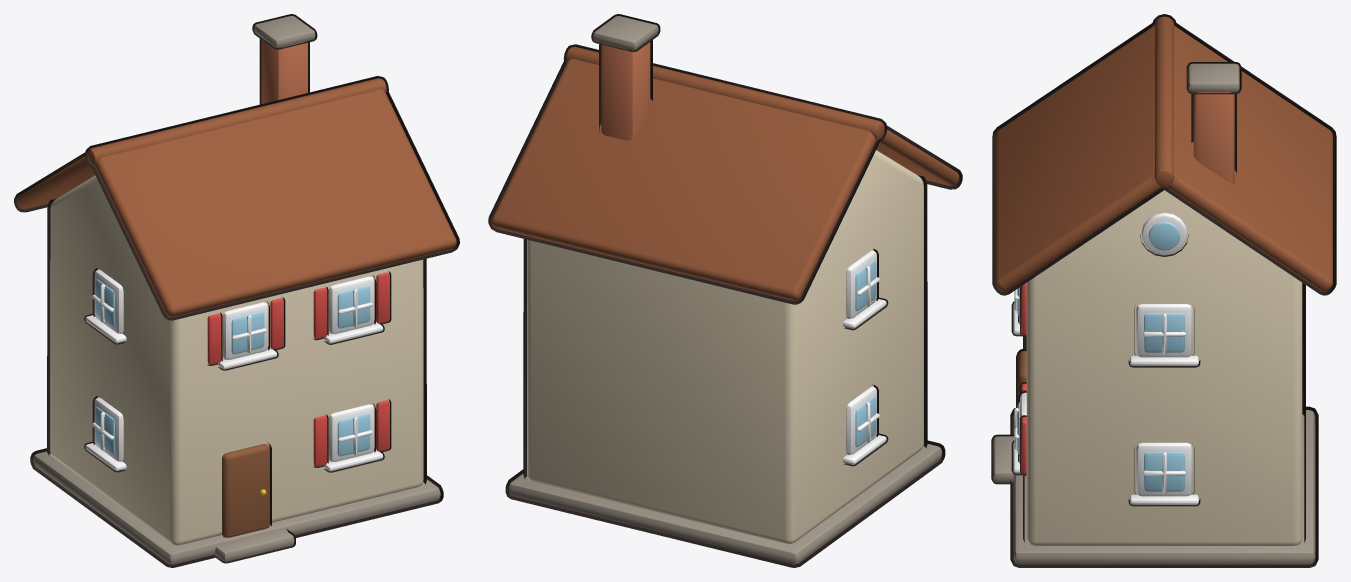
Rendered from House_Brown_2F.fbx.
The picture shows the model from 3 angles, left to right: view 1: azimuth 30°, elevation 25°; view 2: azimuth 150°, elevation 25°; view 3: azimuth 270°, elevation 25°; orthographic projection. The views are drawn at different scales.
Parts seen in each view (by area): view 1: BL_House_Brown_2F_WallCream, BL_House_Brown_2F_RoofBrown, BL_House_Brown_2F_Outline, BL_House_Brown_2F_StoneDark, BL_House_Brown_2F_Frame, BL_House_Brown_2F_Awning1, BL_House_Brown_2F_Window, BL_House_Brown_2F_Door, BL_House_Brown_2F_WallBrick; view 2: BL_House_Brown_2F_WallCream, BL_House_Brown_2F_RoofBrown, BL_House_Brown_2F_StoneDark, BL_House_Brown_2F_Outline, BL_House_Brown_2F_WallBrick, BL_House_Brown_2F_Frame, BL_House_Brown_2F_Window; view 3: BL_House_Brown_2F_WallCream, BL_House_Brown_2F_RoofBrown, BL_House_Brown_2F_StoneDark, BL_House_Brown_2F_Outline, BL_House_Brown_2F_Frame, BL_House_Brown_2F_Window, BL_House_Brown_2F_WallBrick, BL_House_Brown_2F_Awning1.
Boxes of the visible parts, x1,y1,x2,y2 form: BL_House_Brown_2F_WallCream: (50, 175, 423, 545); BL_House_Brown_2F_RoofBrown: (17, 78, 456, 317); BL_House_Brown_2F_Outline: (14, 14, 459, 567); BL_House_Brown_2F_StoneDark: (33, 16, 440, 564); BL_House_Brown_2F_Frame: (85, 269, 383, 471); BL_House_Brown_2F_Awning1: (207, 272, 389, 466); BL_House_Brown_2F_Window: (95, 279, 370, 456); BL_House_Brown_2F_Door: (221, 444, 269, 537); BL_House_Brown_2F_WallBrick: (261, 40, 307, 103); BL_House_Brown_2F_WallCream: (527, 150, 923, 543); BL_House_Brown_2F_RoofBrown: (491, 46, 959, 300); BL_House_Brown_2F_StoneDark: (509, 16, 941, 564); BL_House_Brown_2F_Outline: (488, 14, 962, 567); BL_House_Brown_2F_WallBrick: (601, 42, 650, 140); BL_House_Brown_2F_Frame: (843, 250, 886, 464); BL_House_Brown_2F_Window: (855, 260, 876, 447); BL_House_Brown_2F_WallCream: (1026, 190, 1302, 545); BL_House_Brown_2F_RoofBrown: (996, 16, 1332, 291); BL_House_Brown_2F_StoneDark: (993, 63, 1315, 564); BL_House_Brown_2F_Outline: (991, 14, 1336, 567); BL_House_Brown_2F_Frame: (1013, 212, 1198, 504); BL_House_Brown_2F_Window: (1017, 221, 1184, 491); BL_House_Brown_2F_WallBrick: (1193, 92, 1234, 183); BL_House_Brown_2F_Awning1: (1021, 283, 1026, 474).
Bounding box in the file's own units: 7.3 × 10.03 × 6.76.
